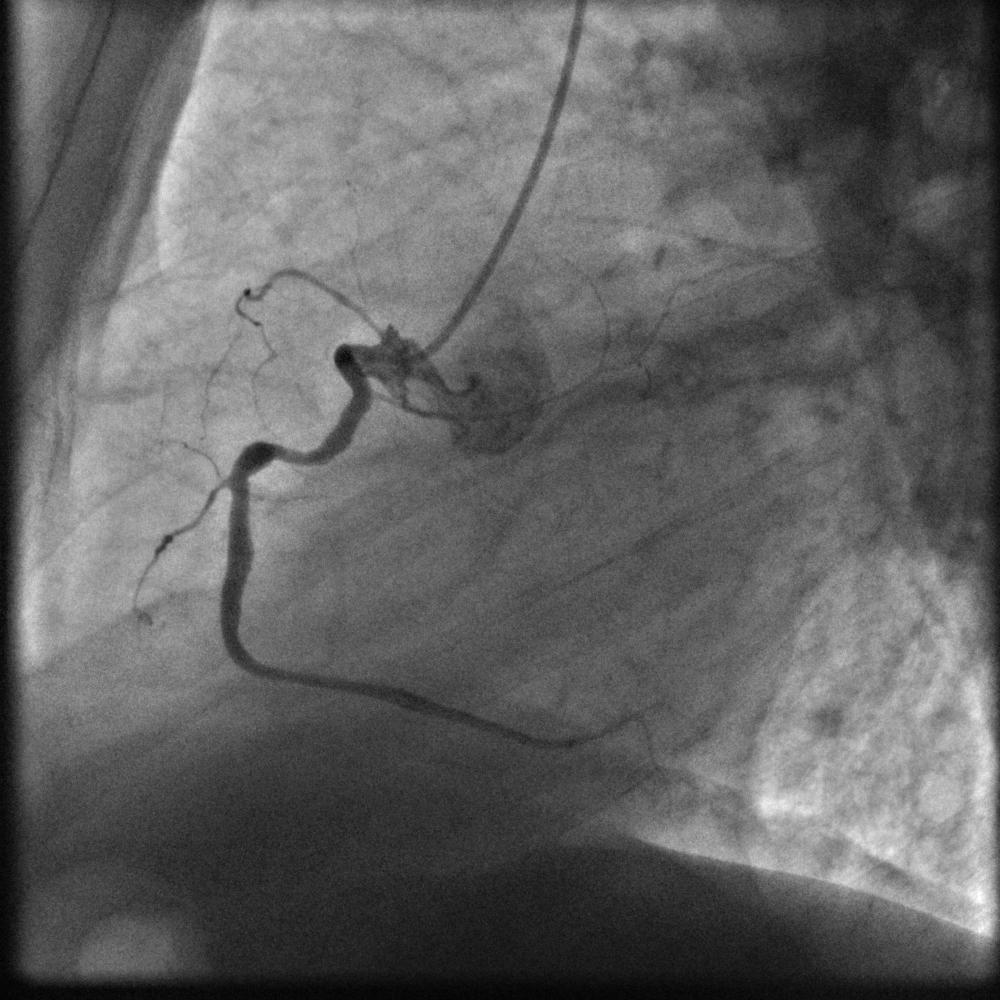Stenosis: (268, 439, 303, 468)
